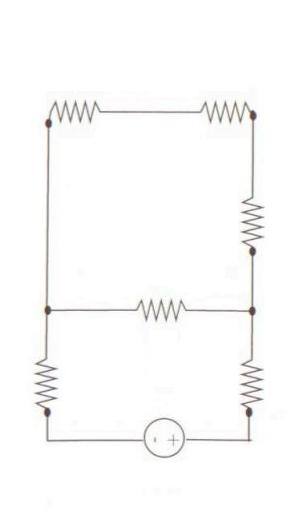resistor: (124, 281, 207, 332), (18, 338, 68, 417), (224, 346, 274, 419), (231, 177, 270, 261), (43, 88, 120, 130), (182, 92, 257, 129)
